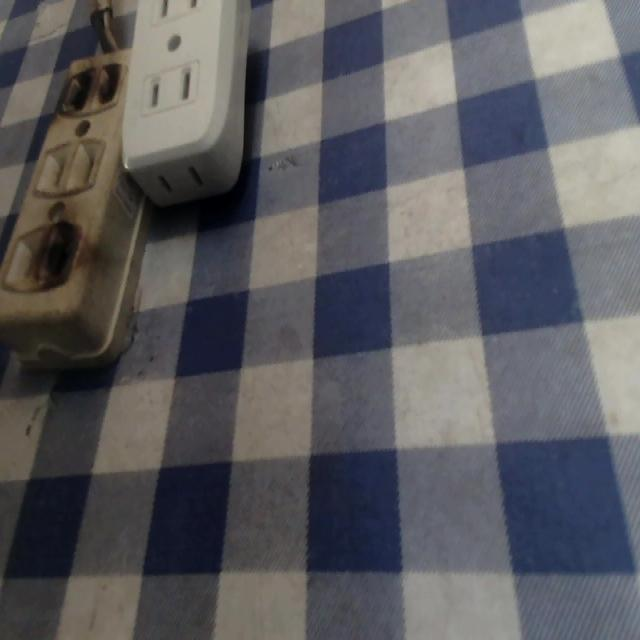-: (54, 58, 123, 118), (36, 221, 83, 287)
